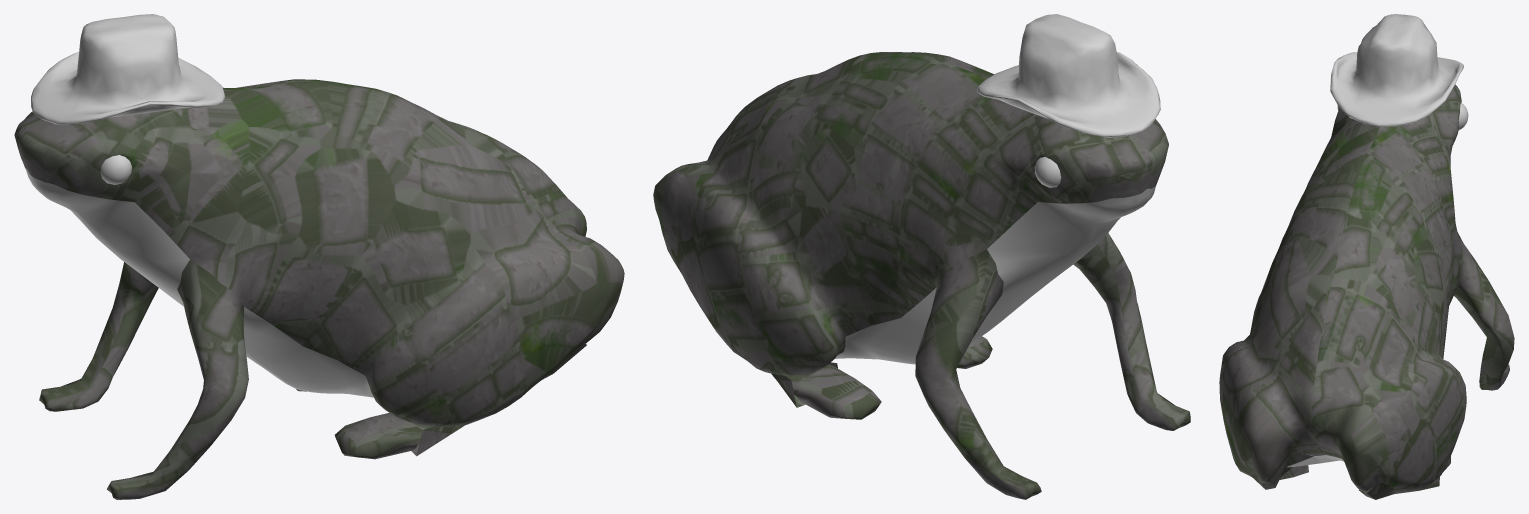
File: SM_Frog.fbx
3 renders of one model, left to right at view 1: azimuth 30°, elevation 25°; view 2: azimuth 150°, elevation 25°; view 3: azimuth 270°, elevation 25°, orthographic. The views are drawn at different scales.
Parts seen in each view (by area): view 1: forg, cowboy_babyyy, eyes; view 2: forg, cowboy_babyyy, eyes; view 3: forg, cowboy_babyyy.
Boxes of the visible parts, x1,y1,x2,y2 form: forg: (14, 79, 624, 499); cowboy_babyyy: (31, 14, 224, 124); eyes: (100, 155, 131, 184); forg: (653, 52, 1190, 499); cowboy_babyyy: (977, 14, 1160, 137); eyes: (1034, 157, 1061, 187); forg: (1219, 84, 1514, 499); cowboy_babyyy: (1330, 14, 1463, 126).
Bounding box in the file's own units: 0.5775 × 0.4363 × 0.3261.
